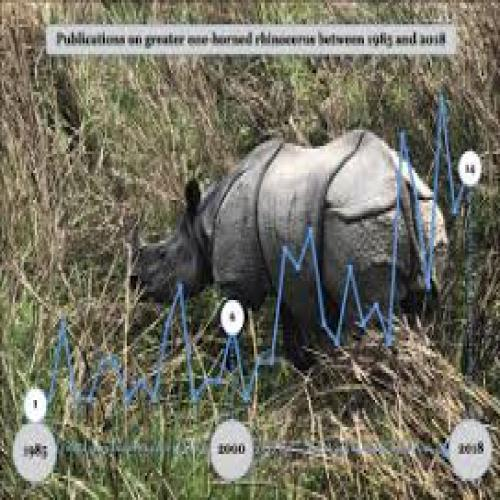rhino-endangered: (141, 131, 453, 339)
